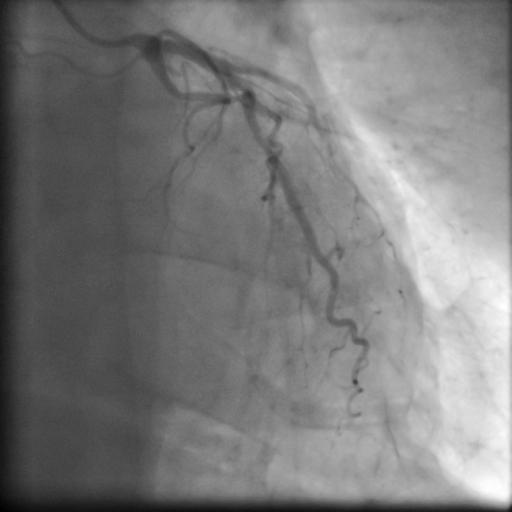Stenosis: (222, 88, 247, 107)
